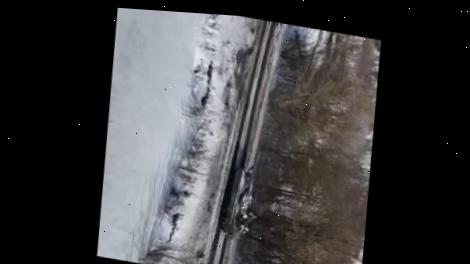tank: (212, 146, 263, 244)
